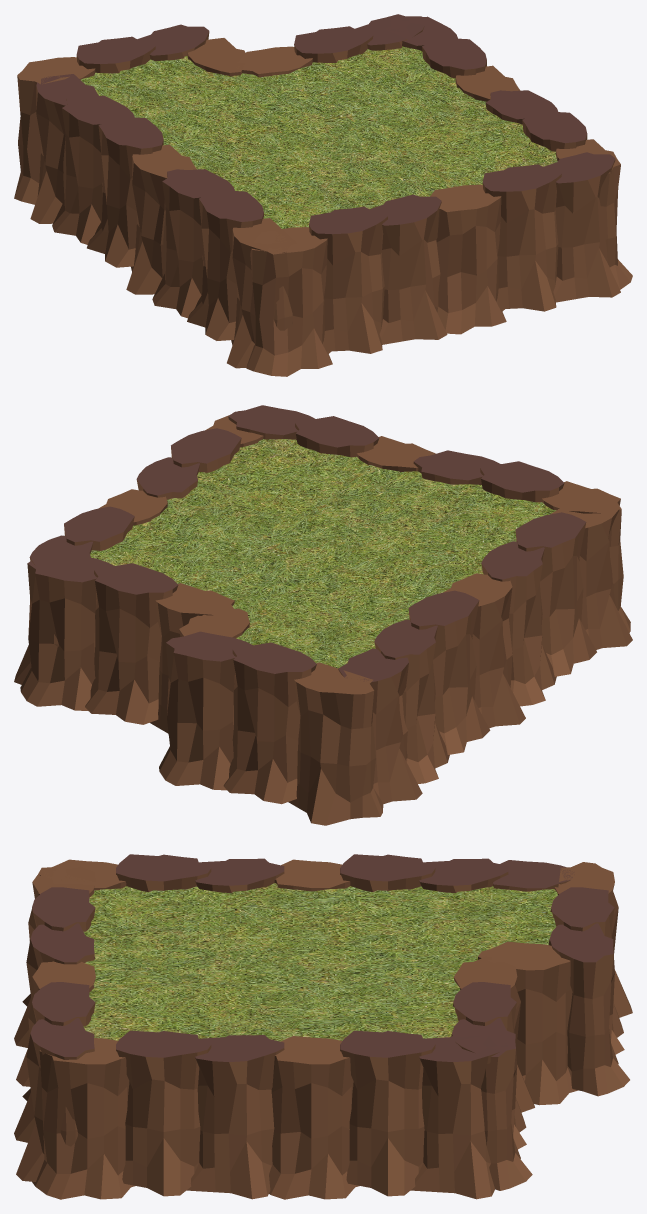
The model's file is structure_cliff_3.fbx.
3 views of the same model, one above another, from view 1: azimuth 30°, elevation 25°; view 2: azimuth 150°, elevation 25°; view 3: azimuth 270°, elevation 25° (orthographic). The views are drawn at different scales.
Visible parts, largest first — view 1: Cylinder.004, Plane; view 2: Cylinder.004, Plane; view 3: Cylinder.004, Plane.
Boxes of the visible parts, box(x1,y1,x2,y2) form: Cylinder.004: box(14, 14, 632, 376); Plane: box(81, 46, 557, 228); Cylinder.004: box(14, 405, 632, 825); Plane: box(90, 439, 556, 668); Cylinder.004: box(14, 854, 632, 1199); Plane: box(83, 883, 557, 1041).
Size of the model in its own units: 1789 by 537 by 2141.
